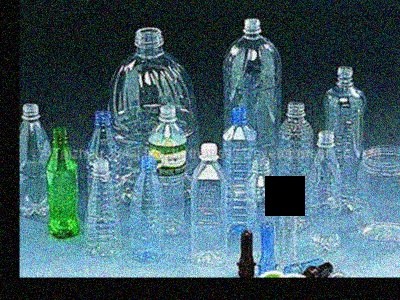bottle: (38, 125, 83, 249), (125, 155, 171, 265), (192, 134, 224, 266), (310, 127, 341, 254)
